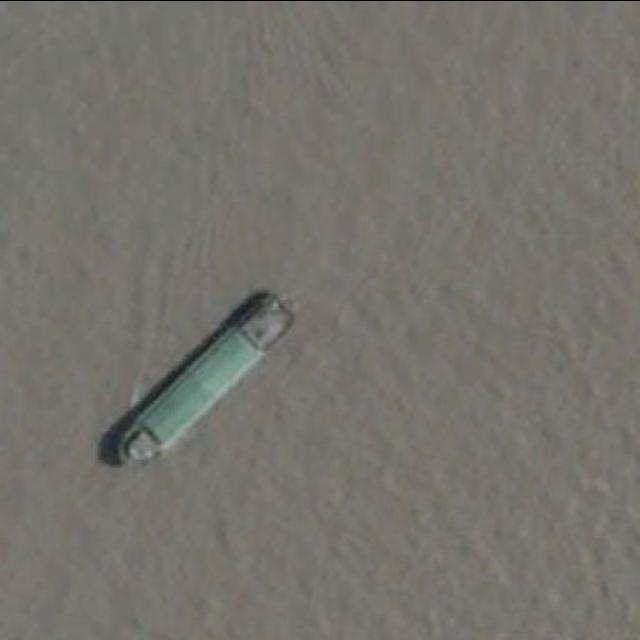ship: (108, 291, 297, 473)
